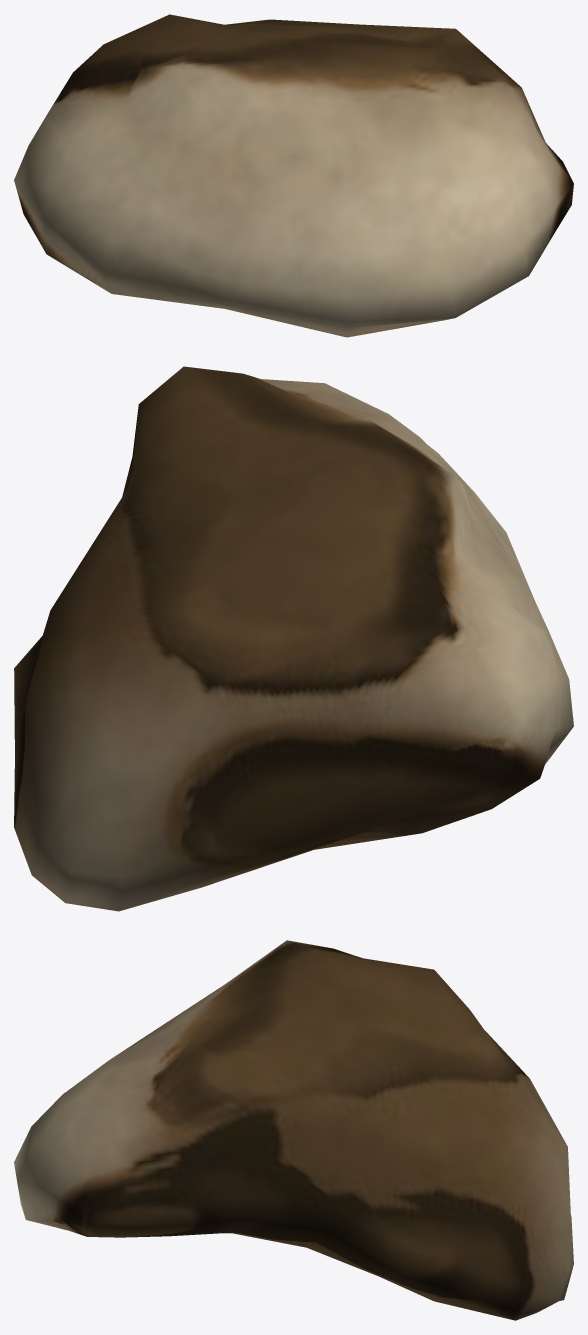
Rendered from Distal_Carpal_II.glb.
The picture shows the model from 3 angles, top to bottom: view 1: azimuth 30°, elevation 25°; view 2: azimuth 150°, elevation 25°; view 3: azimuth 270°, elevation 25°; orthographic projection. The views are drawn at different scales.
Visible parts, largest first — view 1: Distal_Carpal_II_Left1:Group33496; view 2: Distal_Carpal_II_Left1:Group33496; view 3: Distal_Carpal_II_Left1:Group33496.
Boxes of the visible parts, bbox=[...] form: Distal_Carpal_II_Left1:Group33496: bbox=[14, 14, 573, 337]; Distal_Carpal_II_Left1:Group33496: bbox=[14, 366, 573, 911]; Distal_Carpal_II_Left1:Group33496: bbox=[14, 940, 573, 1320].
Size of the model in its own units: 8.14 by 5.4 by 9.55.
Materials: 1 (1 with a texture image).
